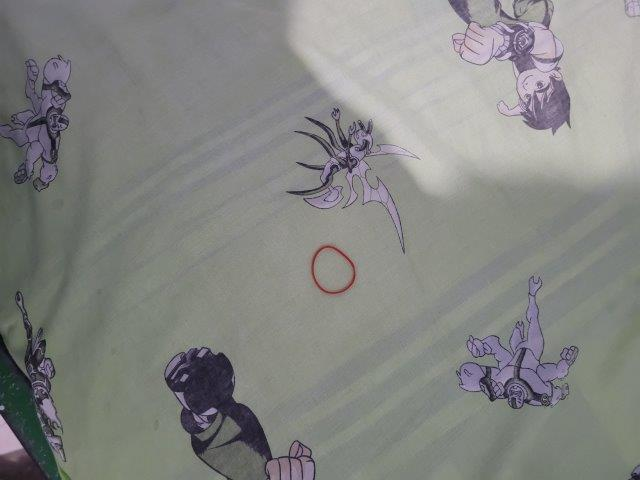karet: (310, 244, 356, 295)
